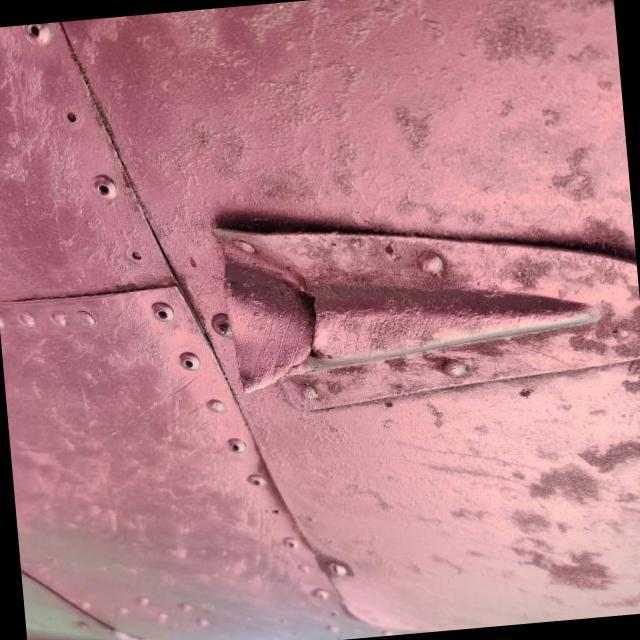Rupture: (272, 266, 338, 380)
